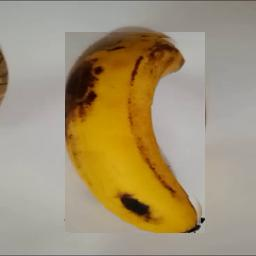Banana Semifresh: (65, 33, 205, 234)
